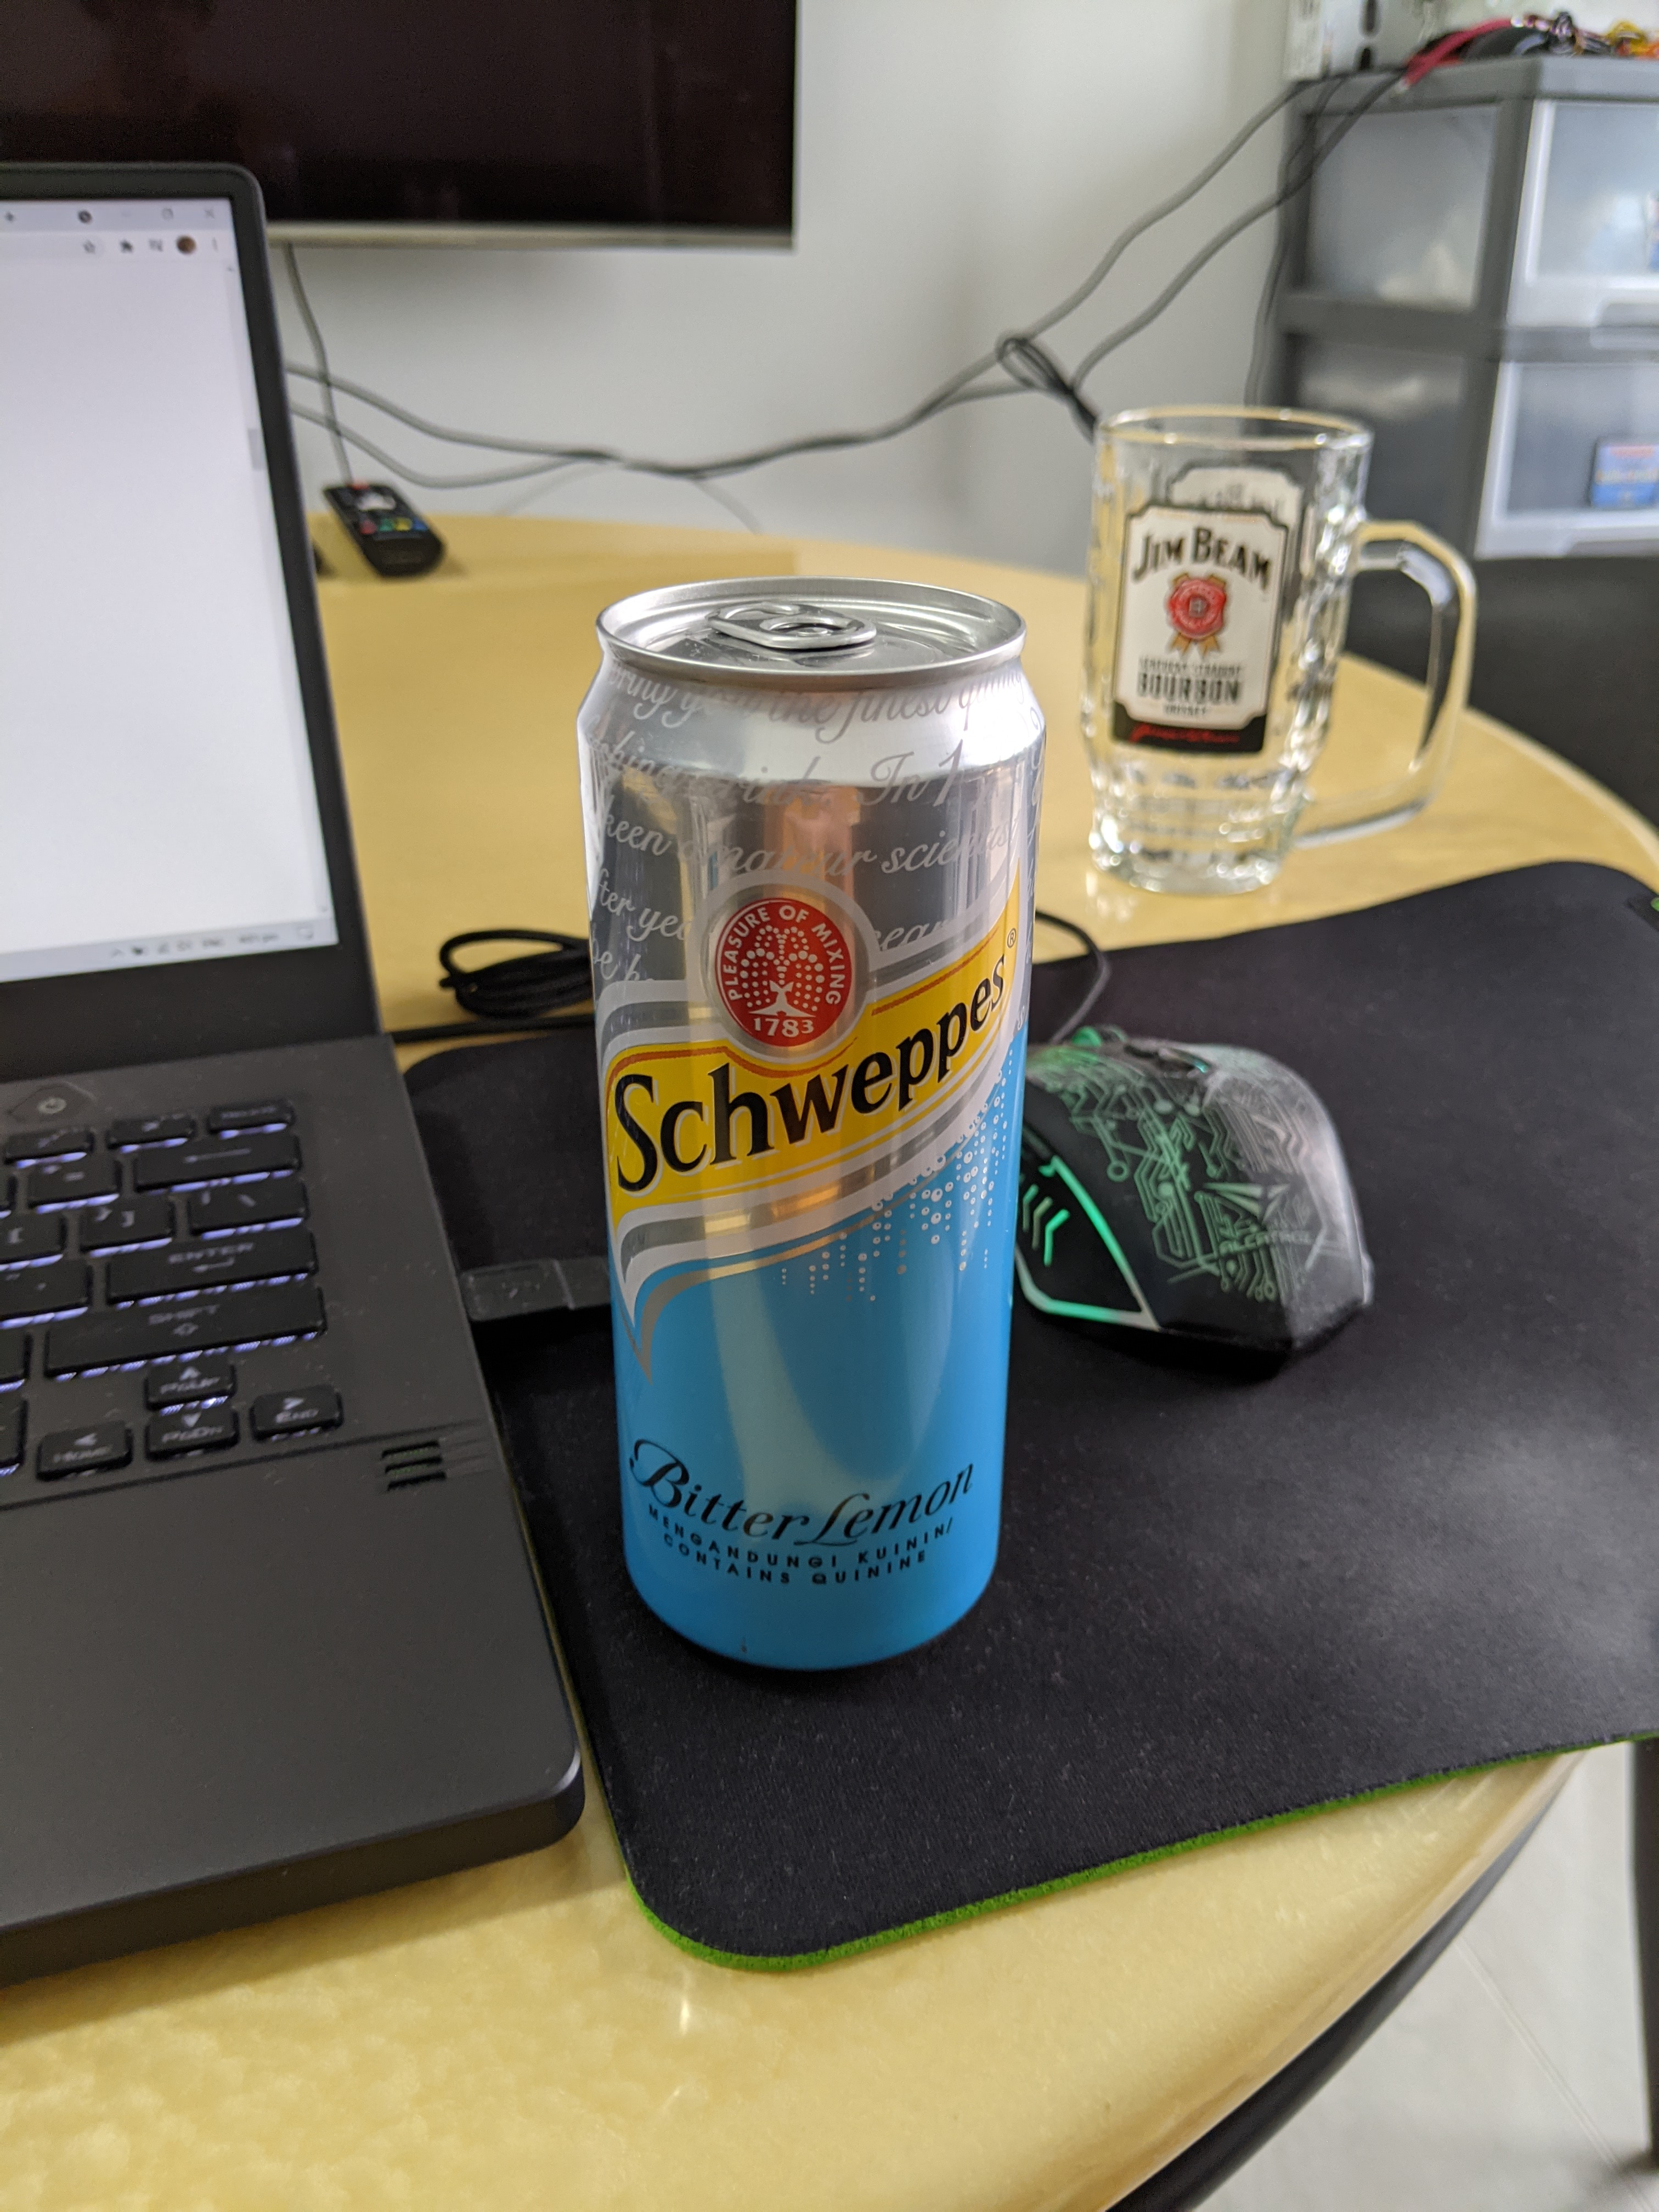schweppes drink can bitter lemon: (544, 547, 1077, 1730)
